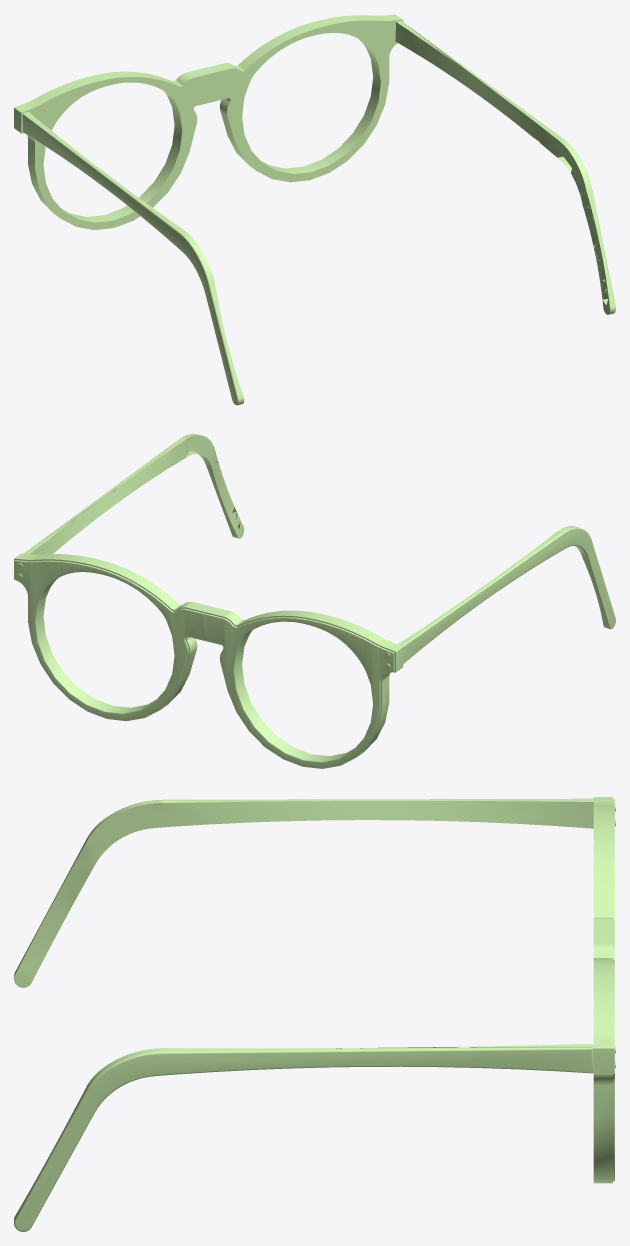
3 views of the same model, one above another, from view 1: azimuth 30°, elevation 25°; view 2: azimuth 150°, elevation 25°; view 3: azimuth 270°, elevation 25° (orthographic). The views are drawn at different scales.
Visible parts, largest first — view 1: 3; view 2: 3; view 3: 3.
Boxes of the visible parts, bbox=[...] form: 3: bbox=[14, 14, 615, 405]; 3: bbox=[14, 434, 615, 768]; 3: bbox=[14, 797, 615, 1231].
Bounding box in the file's own units: 15.21 × 5.68 × 15.27.
